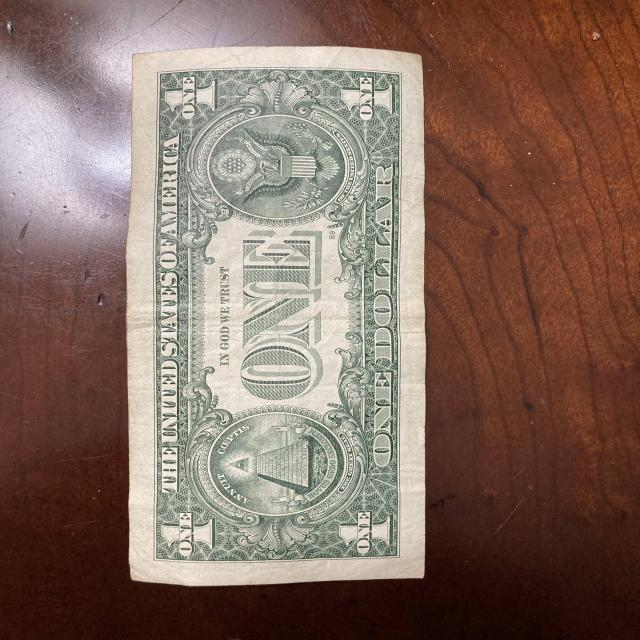one: (126, 45, 430, 585)
